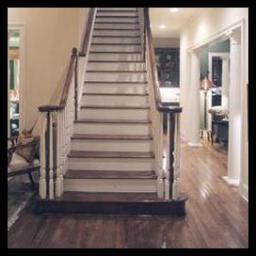Escaleras: (40, 10, 173, 209)
